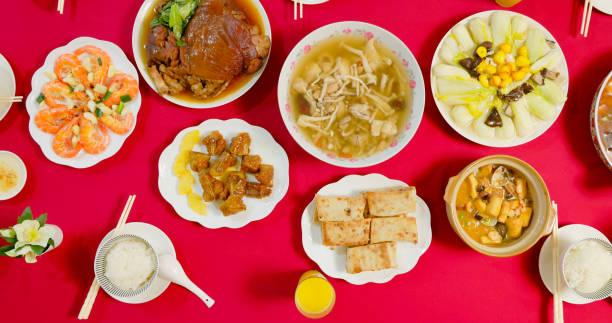Braised Crucian Carp: (276, 20, 422, 168), (431, 9, 568, 149), (23, 35, 140, 168), (131, 0, 268, 110), (300, 173, 433, 285), (156, 117, 286, 228), (443, 154, 554, 256)
